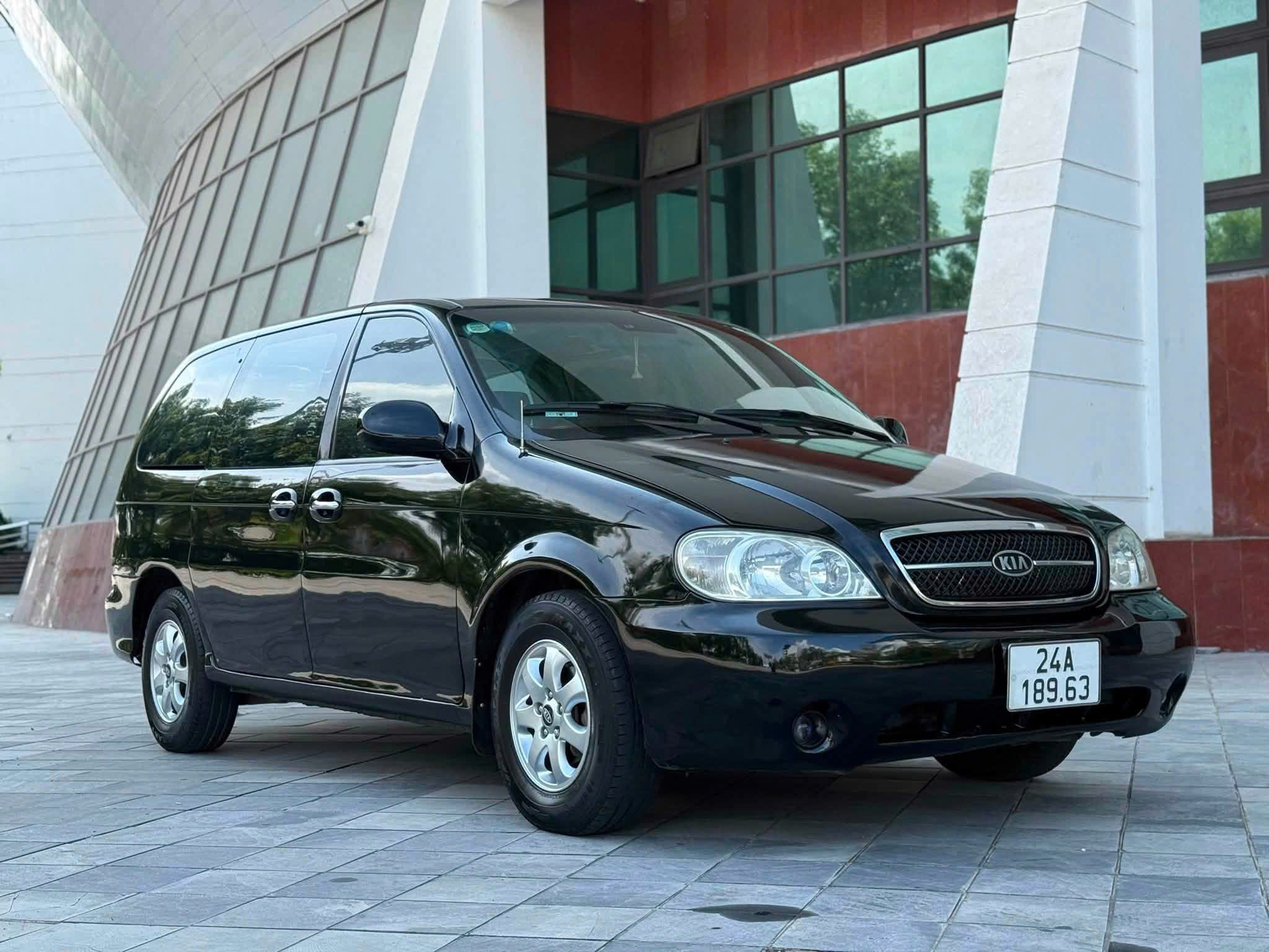Bien-so: (1008, 639, 1102, 710)
